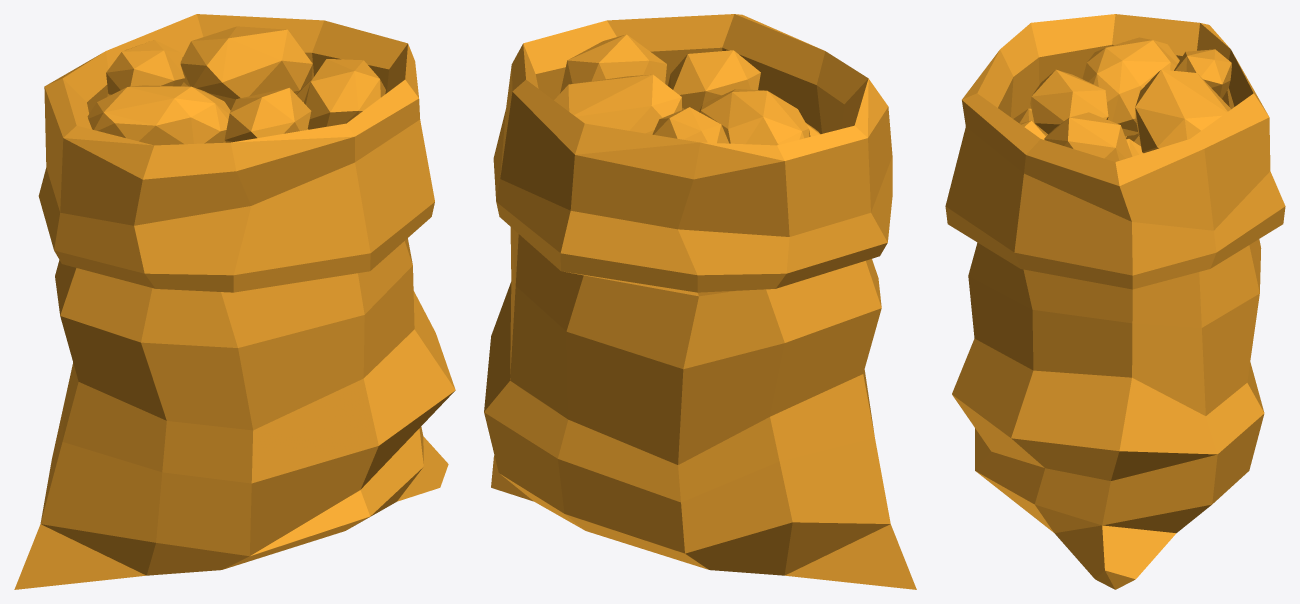
Rendered from SM_Bag_Standing_Open_Potatoes_Farm.fbx.
3 views of the same model, side by side, from view 1: azimuth 30°, elevation 25°; view 2: azimuth 150°, elevation 25°; view 3: azimuth 270°, elevation 25° (orthographic). The views are drawn at different scales.
Visible parts, largest first — view 1: bag-standing-open-potatoes-farm; view 2: bag-standing-open-potatoes-farm; view 3: bag-standing-open-potatoes-farm.
Part boxes in pixels (box(x1,y1,x2,y2)): bag-standing-open-potatoes-farm: box(14, 14, 455, 589); bag-standing-open-potatoes-farm: box(484, 14, 916, 589); bag-standing-open-potatoes-farm: box(945, 14, 1285, 589).
Bounding box in the file's own units: 0.6185 × 0.6551 × 0.46.
